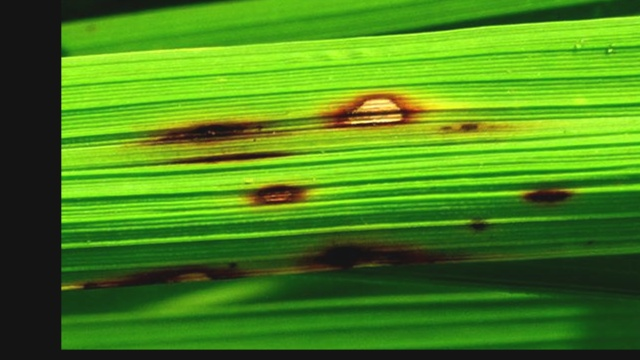Bacterial_Leaf_Blight: (122, 115, 277, 158), (318, 82, 422, 132), (286, 237, 408, 274), (231, 169, 315, 208), (505, 181, 582, 206)
